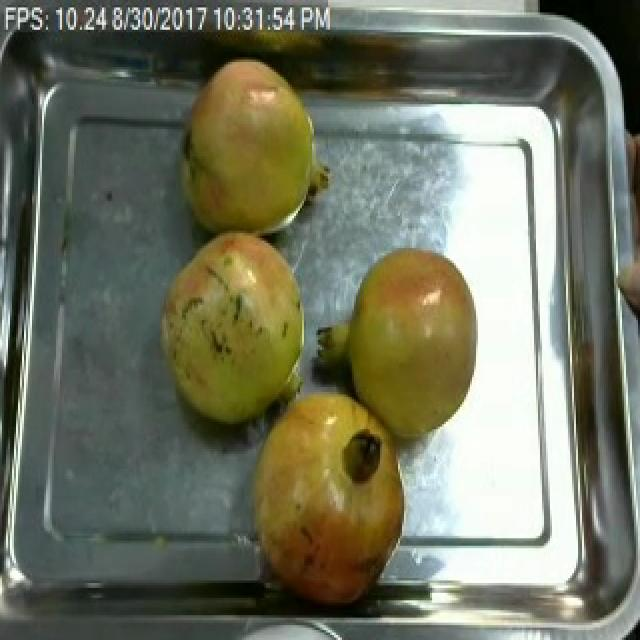fruit: (240, 377, 414, 610), (340, 236, 482, 449), (176, 52, 334, 243), (156, 223, 310, 372), (612, 231, 640, 337)
